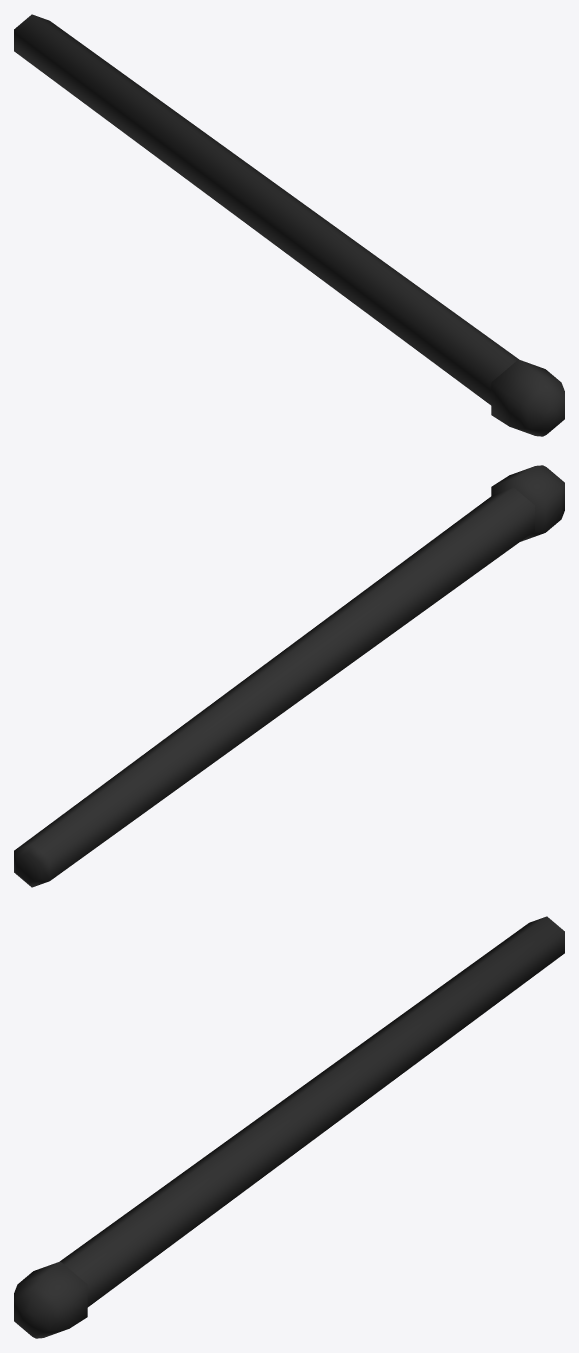
The model's file is Drumstick_01.fbx.
The picture shows the model from 3 angles, top to bottom: view 1: azimuth 30°, elevation 25°; view 2: azimuth 150°, elevation 25°; view 3: azimuth 330°, elevation 25°; orthographic projection.
Visible parts, largest first — view 1: Drumstick_01; view 2: Drumstick_01; view 3: Drumstick_01.
Part boxes in pixels (x1,y1,x2,y2): Drumstick_01: [14, 14, 564, 436]; Drumstick_01: [14, 465, 564, 887]; Drumstick_01: [14, 916, 564, 1338].
Size of the model in its own units: 0.0302 by 0.0348 by 0.5022.
